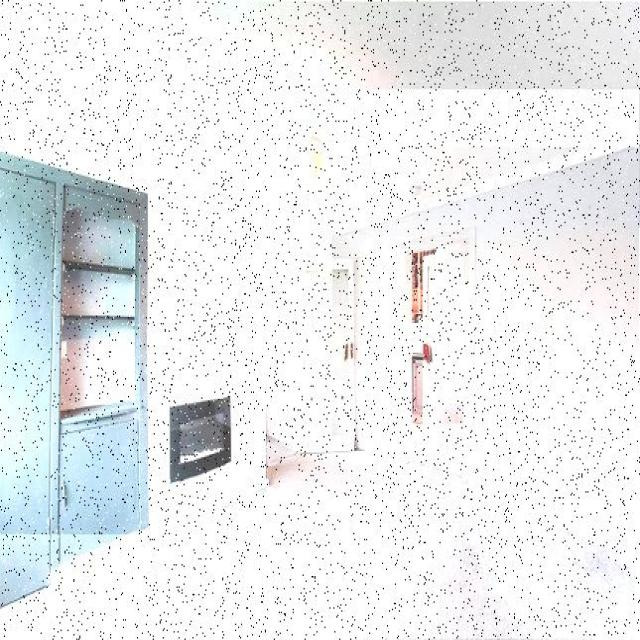Wall: (0, 3, 640, 228), (333, 148, 640, 542), (0, 451, 640, 639), (0, 97, 267, 534), (253, 90, 640, 235), (412, 425, 466, 481), (269, 220, 331, 259), (149, 392, 170, 500), (267, 435, 296, 466)
